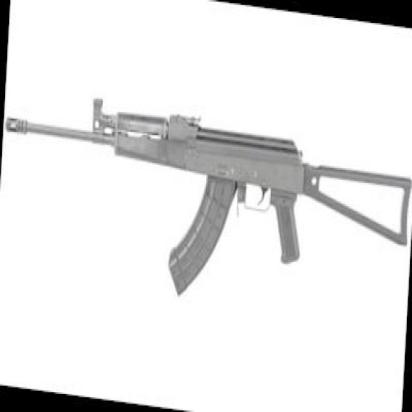Gun: (0, 86, 412, 303)
